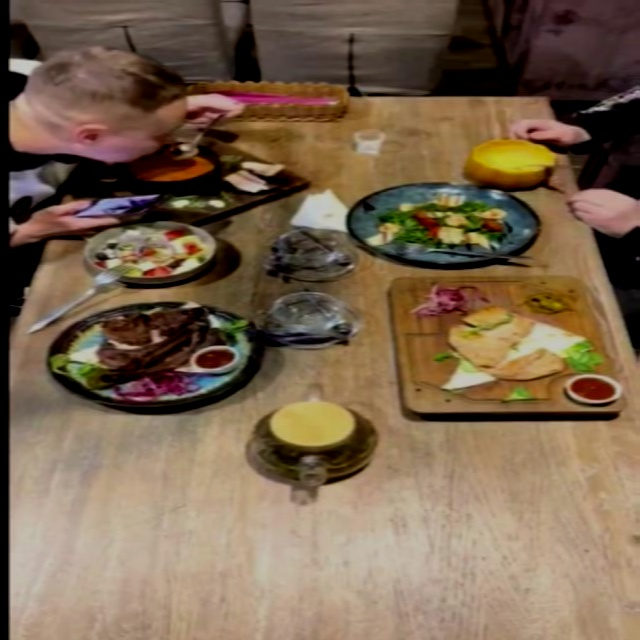meat: (383, 273, 633, 429), (47, 300, 265, 408)
salad: (351, 182, 544, 265), (84, 220, 219, 284)
soup: (100, 153, 320, 210), (467, 137, 560, 188)
tea: (233, 383, 397, 494)
